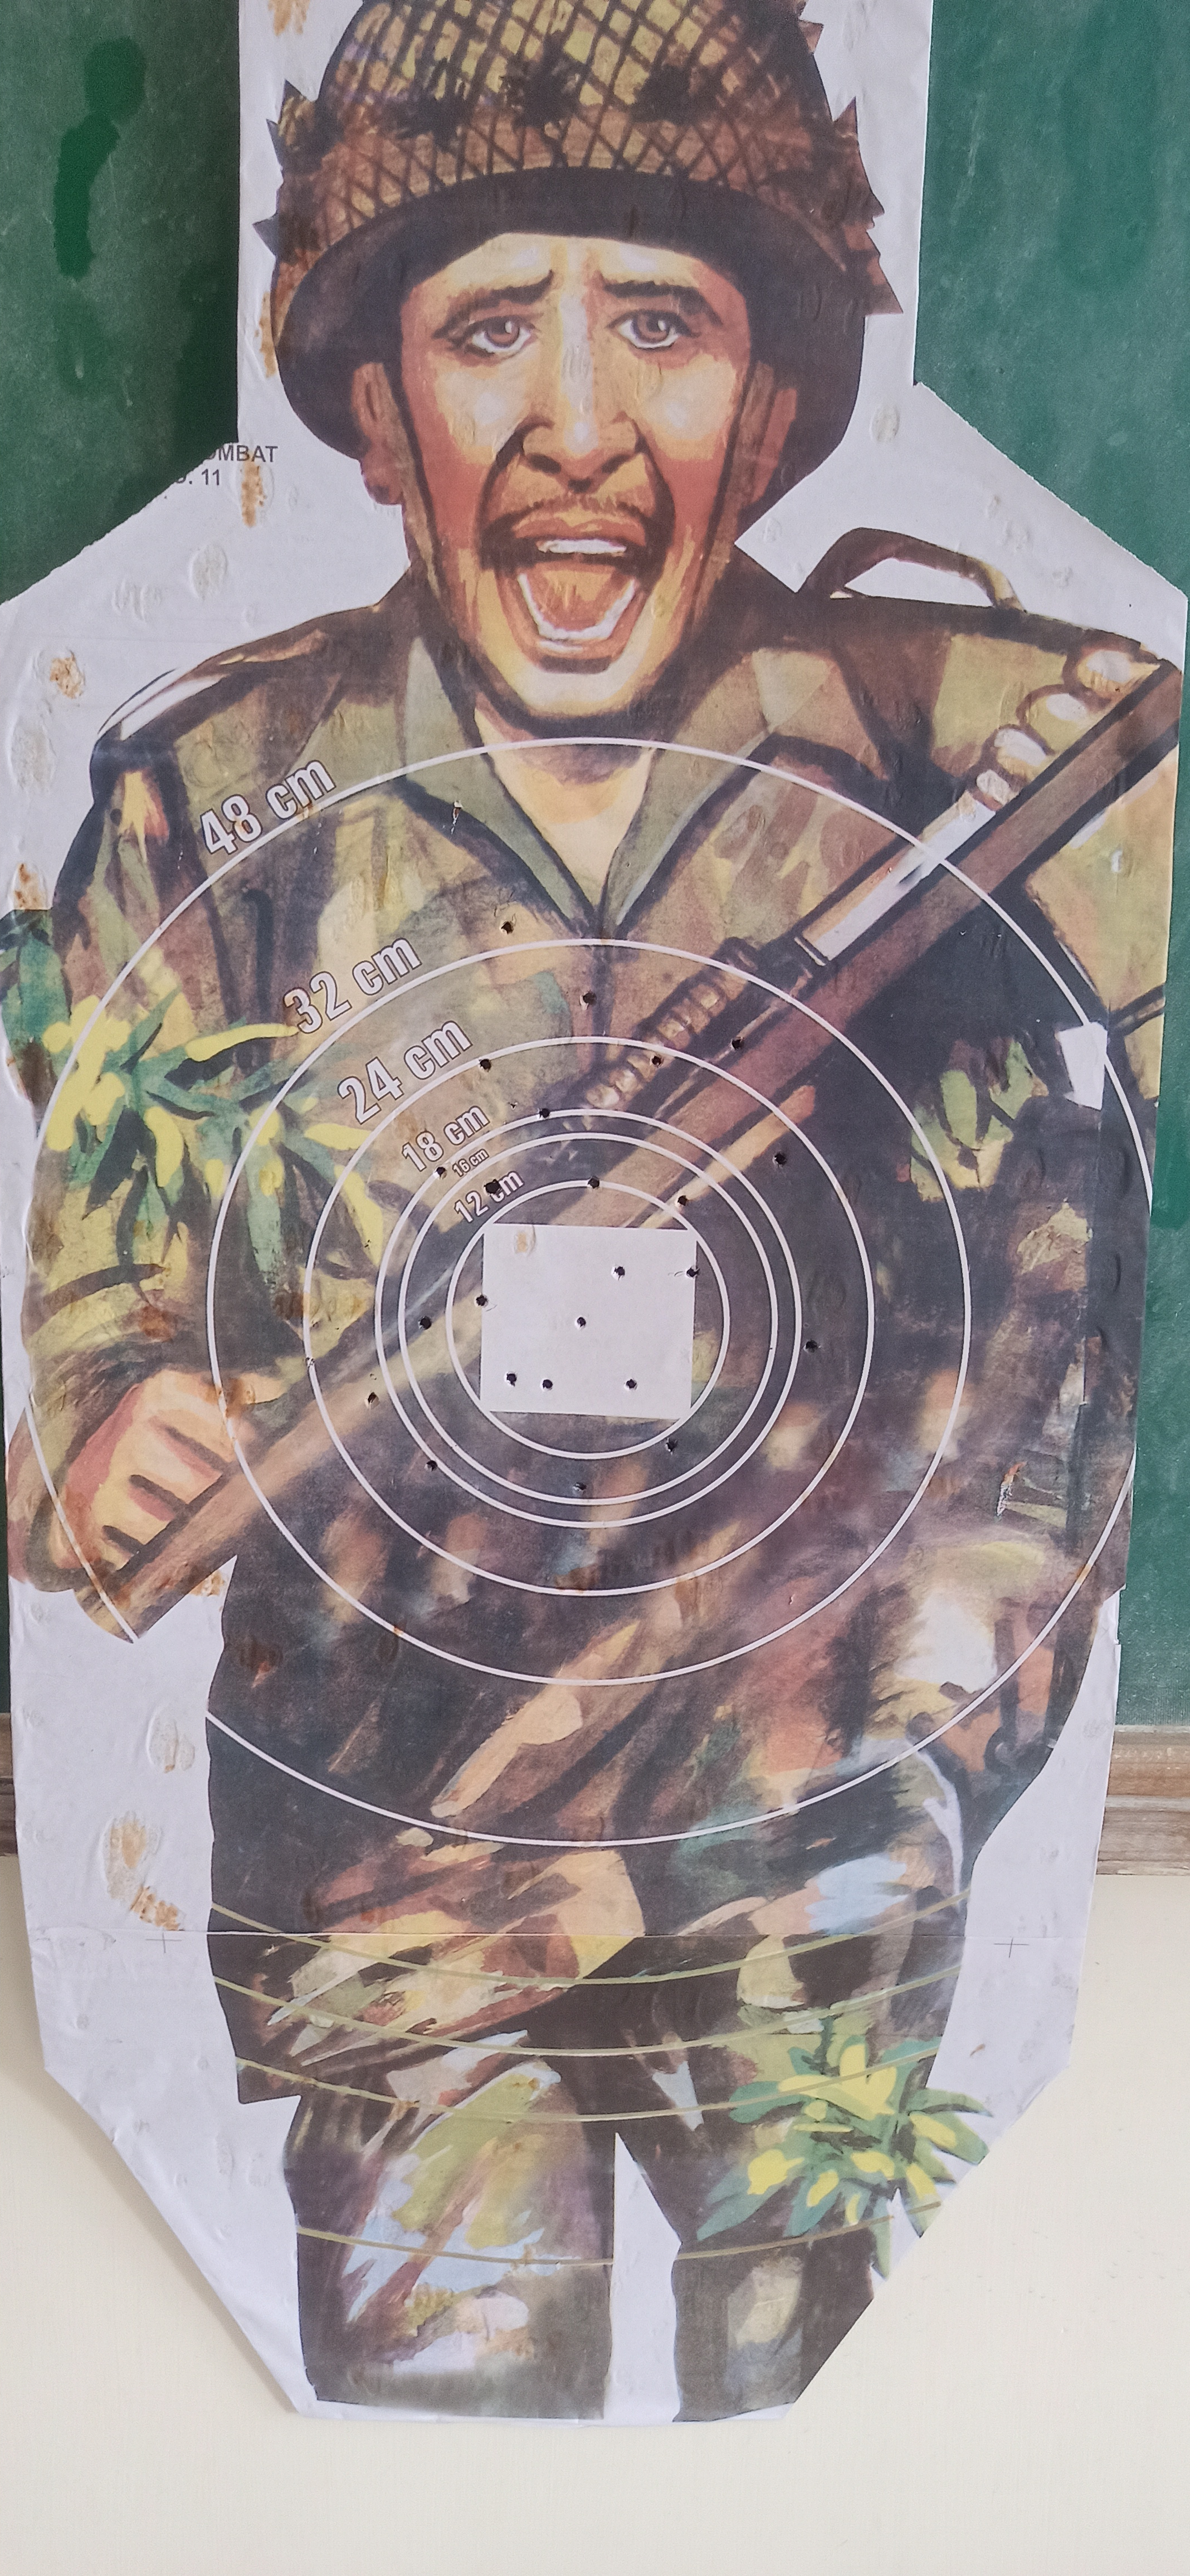bullet hit: (794, 1331, 828, 1360), (763, 1140, 794, 1171), (653, 1433, 687, 1459), (575, 982, 603, 1014), (582, 1168, 611, 1196), (569, 1474, 597, 1502), (677, 1260, 707, 1286), (723, 1032, 751, 1058), (603, 1260, 633, 1285), (421, 1449, 445, 1479), (529, 1101, 559, 1125), (495, 915, 521, 941), (414, 1311, 442, 1336), (643, 1046, 671, 1071), (482, 1175, 510, 1199), (498, 1368, 528, 1391), (427, 1158, 454, 1183), (537, 1373, 562, 1398), (473, 1051, 498, 1076), (570, 1309, 593, 1334), (362, 1387, 385, 1411), (472, 1288, 495, 1311), (621, 1373, 644, 1396), (676, 1189, 694, 1214)
white box: (482, 1222, 700, 1419)
